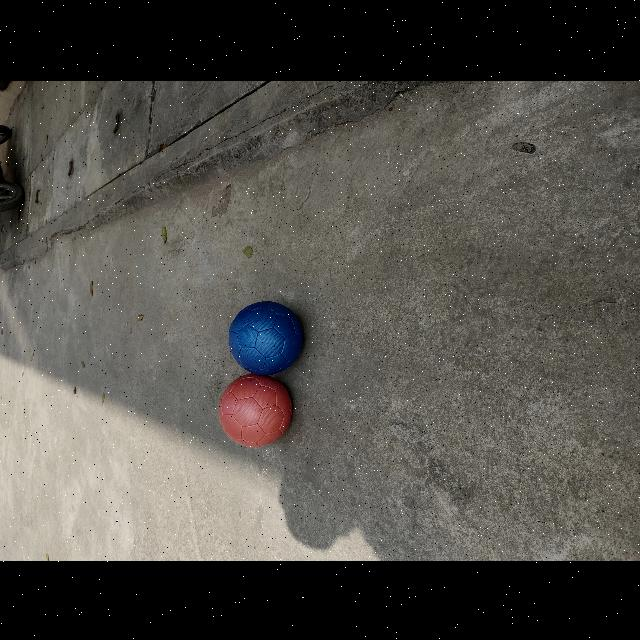B: (228, 300, 303, 375)
R: (218, 372, 292, 447)
